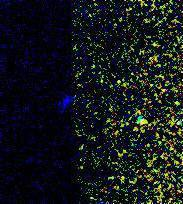star: (127, 110, 157, 140)
